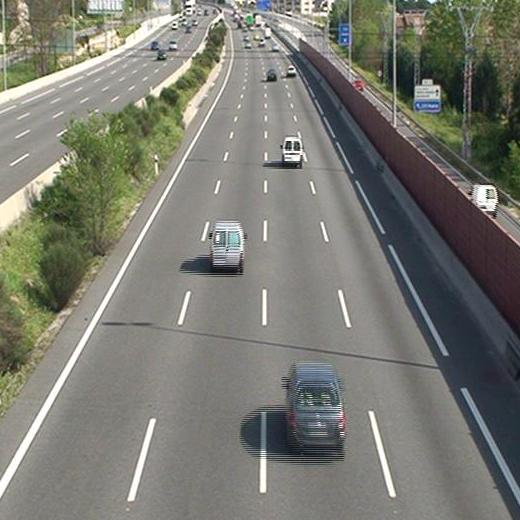car: (285, 364, 347, 448), (265, 68, 276, 79), (285, 66, 296, 76)
van: (209, 221, 247, 270), (281, 137, 304, 165)
